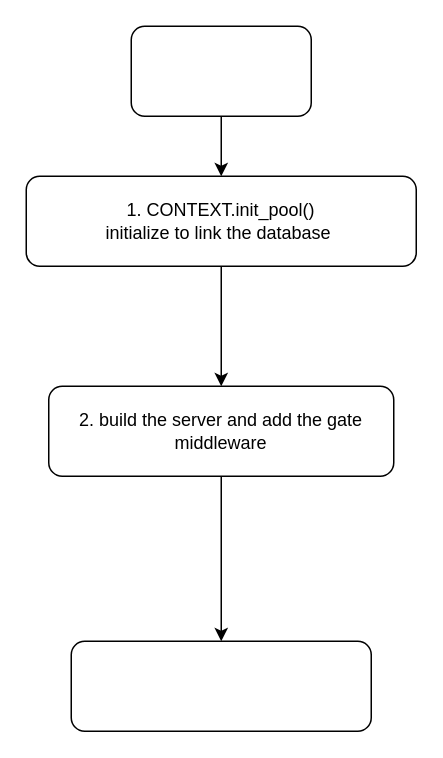
This 443x758 diagram has some shape labels left out. The centre of each missing label's shape, as x and y in pixels:
"3. add all controller to exporse the api" belongs at (x=220, y=685).
"main" belongs at (x=220, y=70).
